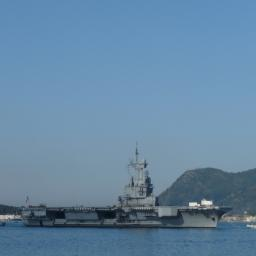Portanaves: (19, 142, 235, 233)
